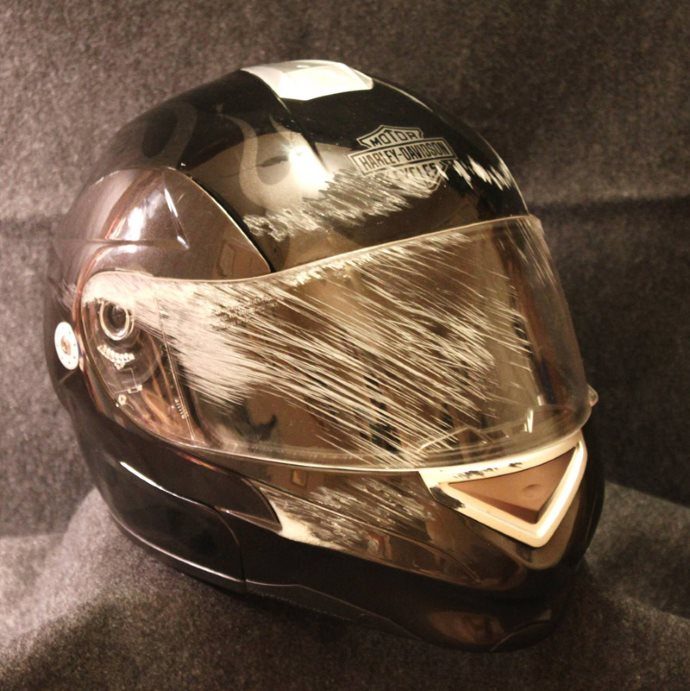with_helmet: (39, 54, 619, 653)
